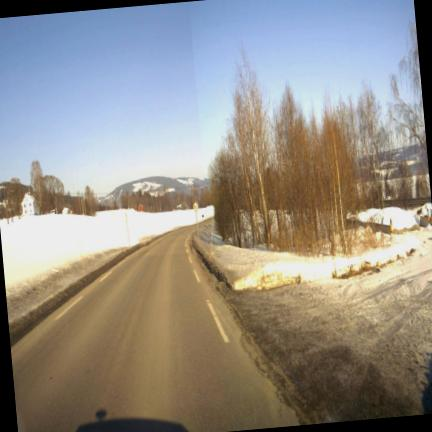Road: (11, 228, 297, 431)
